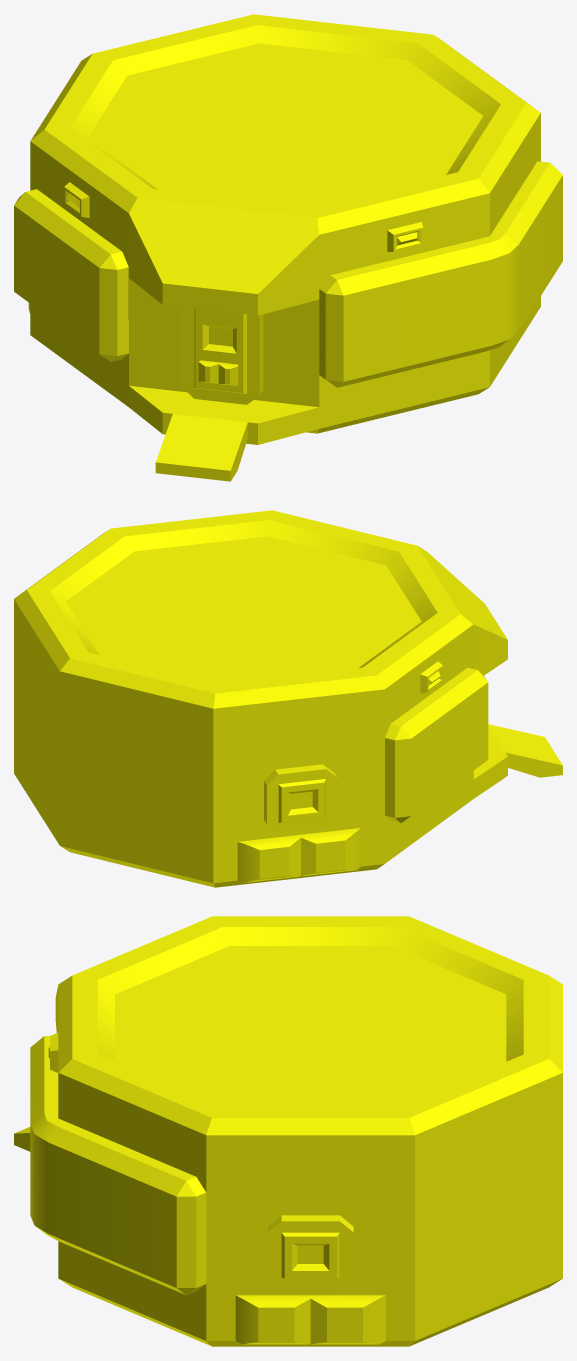
The model's file is kaykit-basemodule-a.glb.
The picture shows the model from 3 angles, top to bottom: view 1: azimuth 30°, elevation 25°; view 2: azimuth 150°, elevation 25°; view 3: azimuth 270°, elevation 25°; orthographic projection. The views are drawn at different scales.
Parts seen in each view (by area): view 1: basemodule_A; view 2: basemodule_A; view 3: basemodule_A.
Boxes of the visible parts, left/top/right/bottom form: basemodule_A: left=14, top=14, right=562, bottom=481; basemodule_A: left=14, top=510, right=562, bottom=887; basemodule_A: left=14, top=916, right=562, bottom=1346.
Bounding box in the file's own units: 2.25 × 0.9999 × 2.18.
